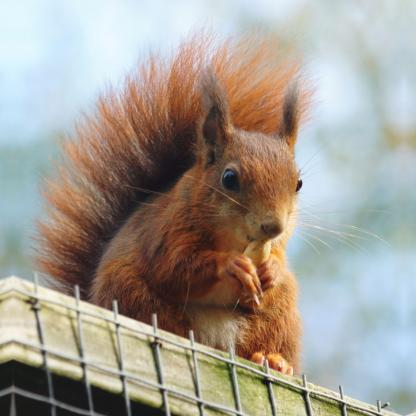Squirrel: (24, 13, 394, 380)
